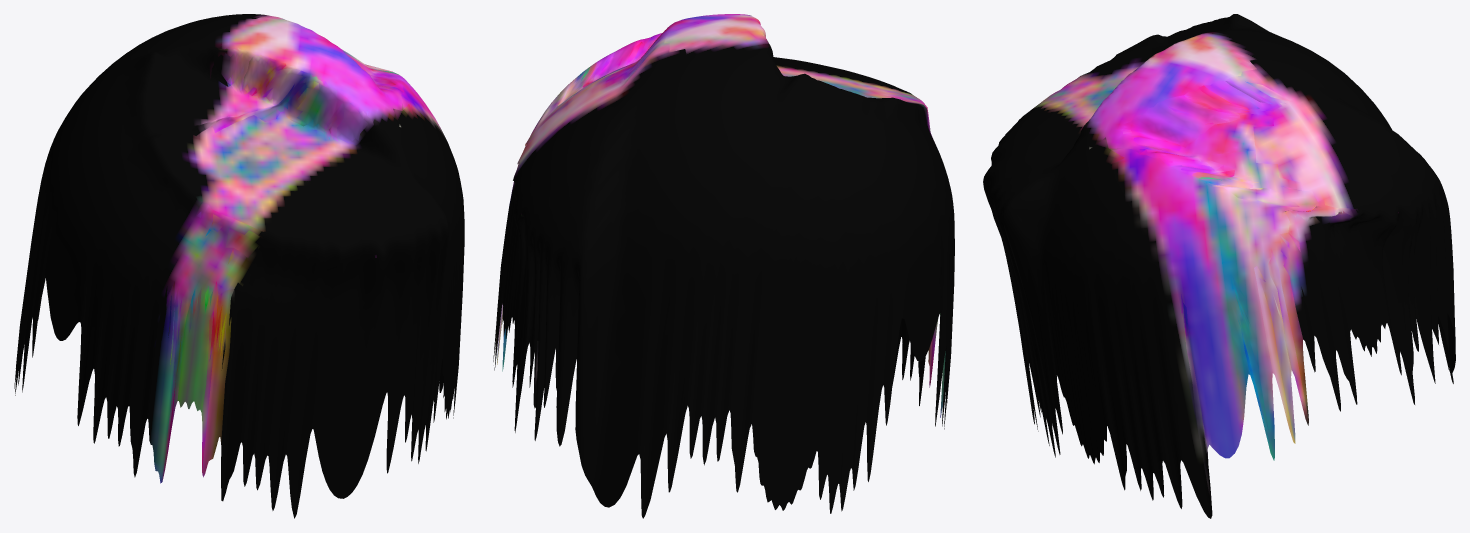
File: page1obj_v3.glb
3 renders of one model, left to right at view 1: azimuth 30°, elevation 25°; view 2: azimuth 150°, elevation 25°; view 3: azimuth 270°, elevation 25°, orthographic. The views are drawn at different scales.
Parts seen in each view (by area): view 1: Default(D63A3606-FF84-4F48-9791-4358D7CB3DE5); view 2: Default(D63A3606-FF84-4F48-9791-4358D7CB3DE5); view 3: Default(D63A3606-FF84-4F48-9791-4358D7CB3DE5).
Part boxes in pixels (x1=…): Default(D63A3606-FF84-4F48-9791-4358D7CB3DE5): x1=14, y1=14, x2=464, y2=518; Default(D63A3606-FF84-4F48-9791-4358D7CB3DE5): x1=493, y1=14, x2=954, y2=518; Default(D63A3606-FF84-4F48-9791-4358D7CB3DE5): x1=983, y1=14, x2=1455, y2=518.
Bounding box in the file's own units: 0.032 × 0.033 × 0.0363.
1 material, 1 textured.
